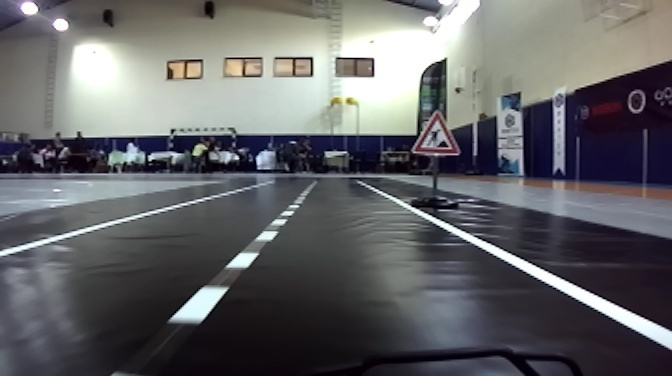yol_yapimi: (409, 110, 464, 162)
